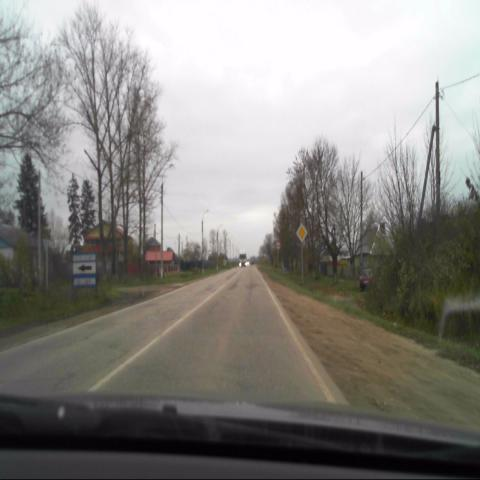2_1: (296, 223, 309, 244)
8_3_2: (72, 260, 97, 276)
